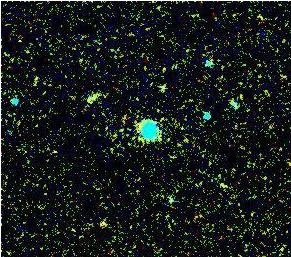star: (88, 210, 118, 240)
